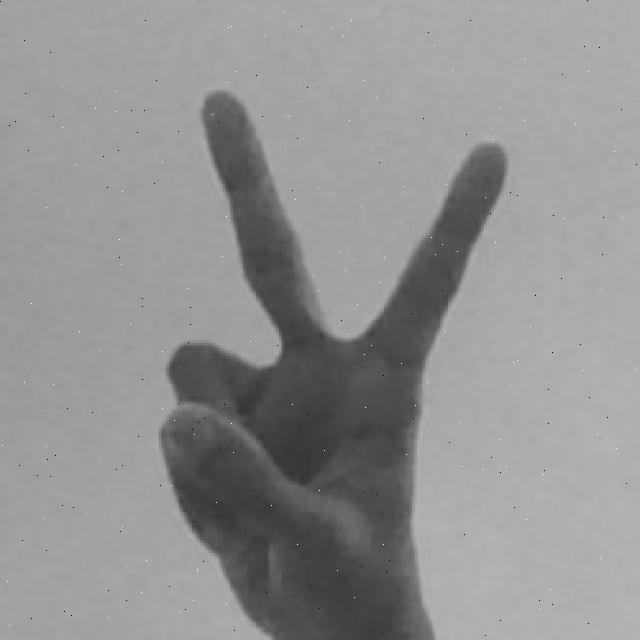V: (144, 81, 519, 640)
